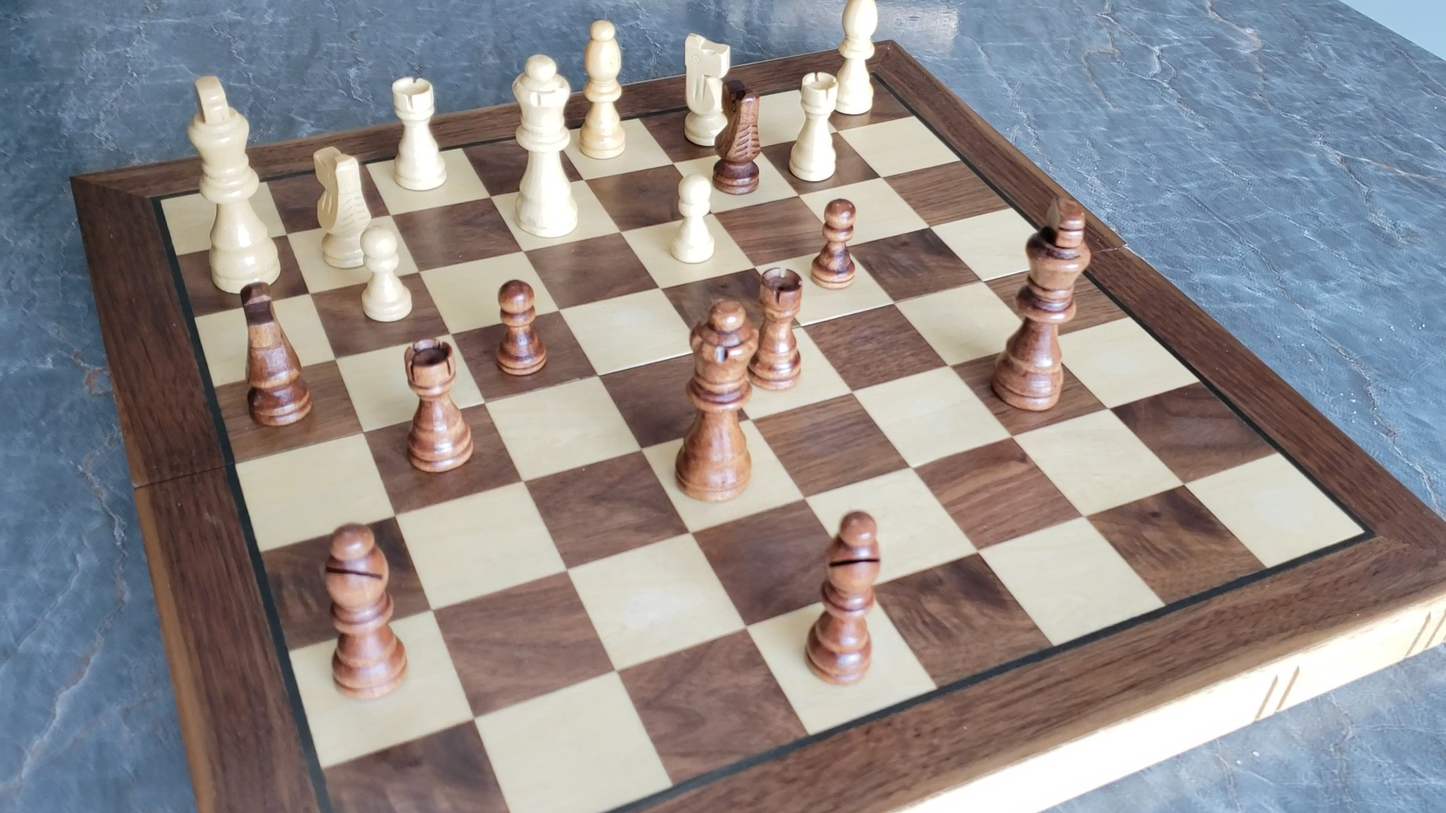black-bishop: (302, 511, 422, 712), (799, 508, 884, 692)
black-king: (985, 192, 1099, 438)
black-knight: (236, 279, 313, 425), (714, 74, 762, 194)
black-pawn: (493, 276, 547, 378), (811, 195, 860, 291)
black-queen: (673, 295, 760, 504)
black-rook: (402, 337, 473, 473), (752, 264, 805, 390)
white-bishop: (577, 15, 629, 162), (831, 0, 887, 120)
white-king: (171, 72, 298, 298)
white-knight: (308, 141, 377, 272), (678, 29, 735, 148)
white-pawn: (351, 221, 419, 327), (664, 169, 722, 269)
white-queen: (508, 49, 582, 243)
white-rook: (387, 72, 448, 194), (786, 67, 844, 186)
